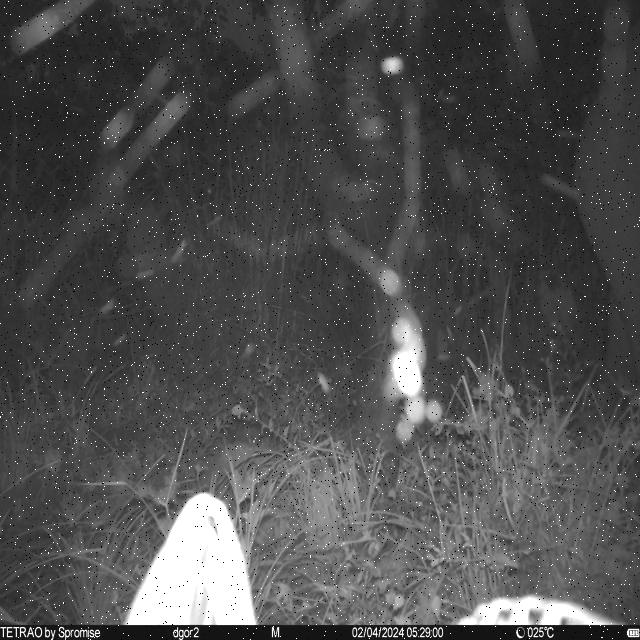elephant: (574, 0, 637, 413)
